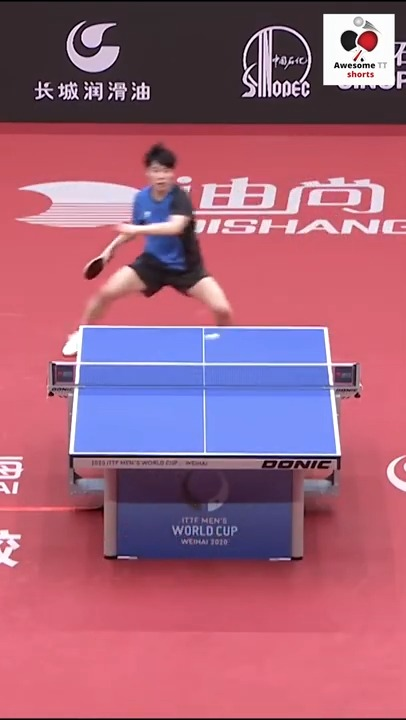Ball: (206, 332, 221, 344)
